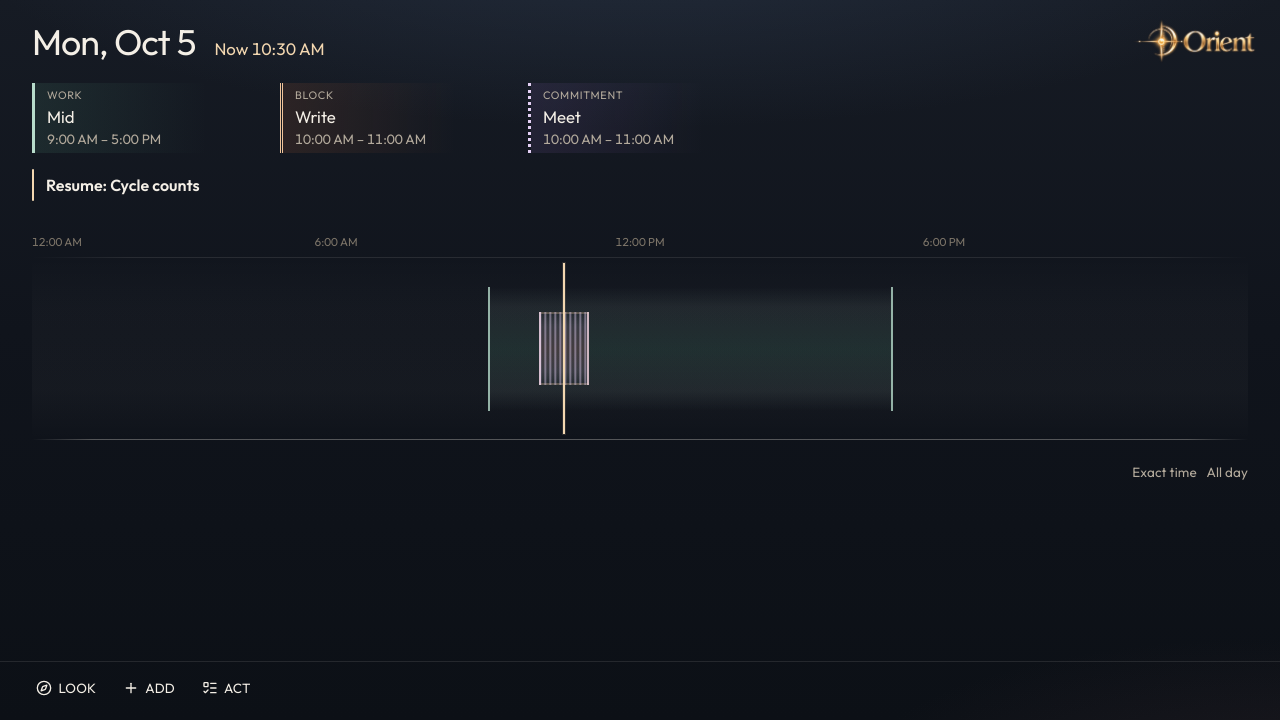
desktop reading › keeps Present reachable through LOOK with peer Now composition
Click the button "LOOK": (66, 688) [24,668,108,708]
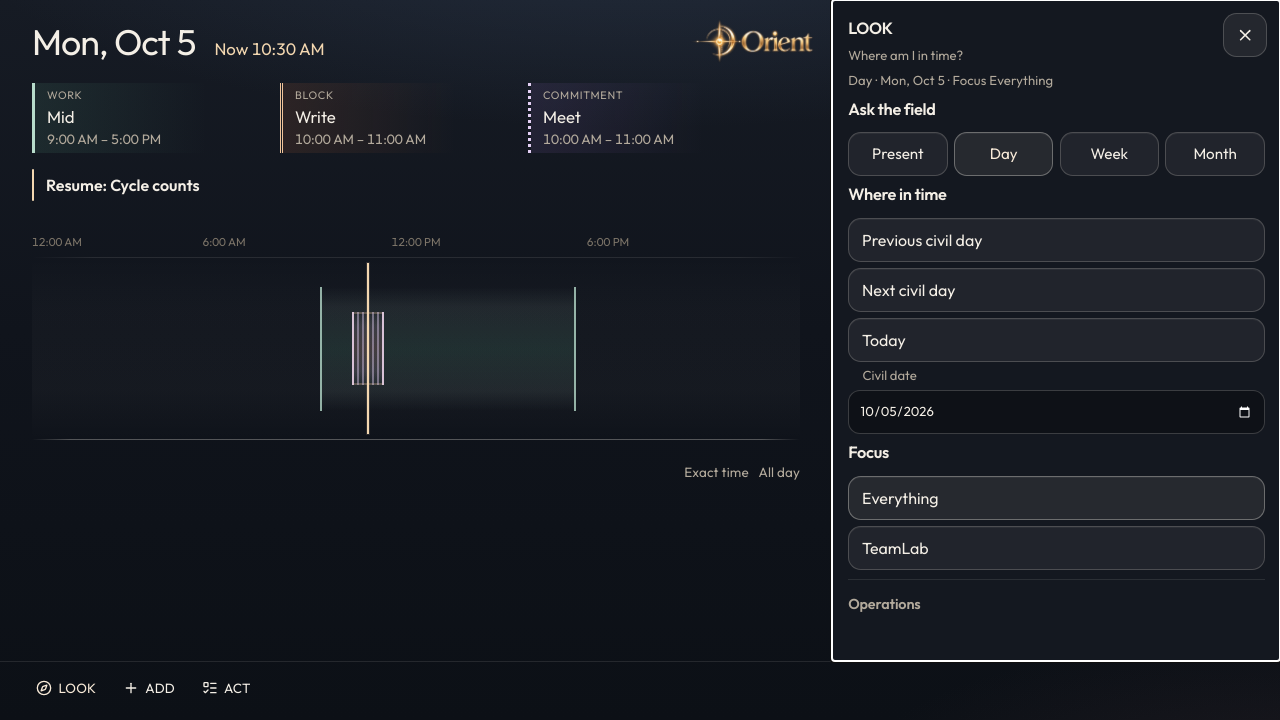
Click the button "Present": (898, 154) [848,132,948,176]
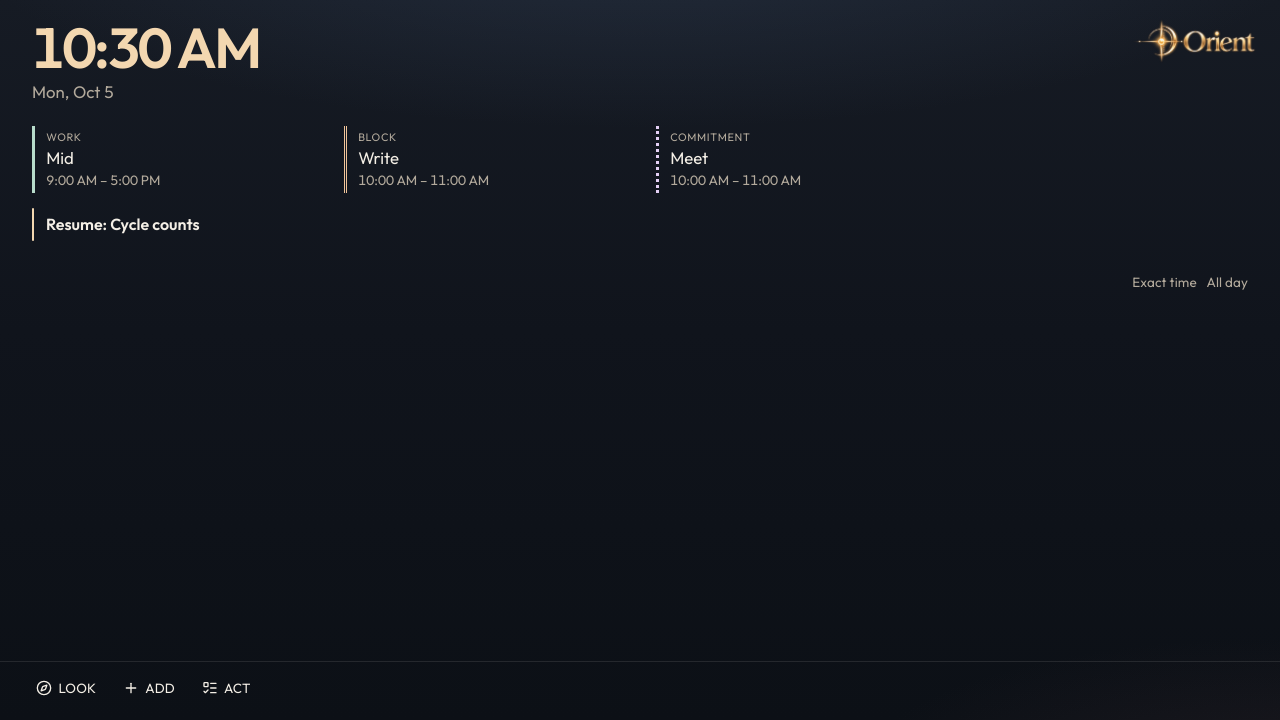
Expected: the element showing "10:30 AM Mon, Oct 5" is shown, [32,12,260,102]
